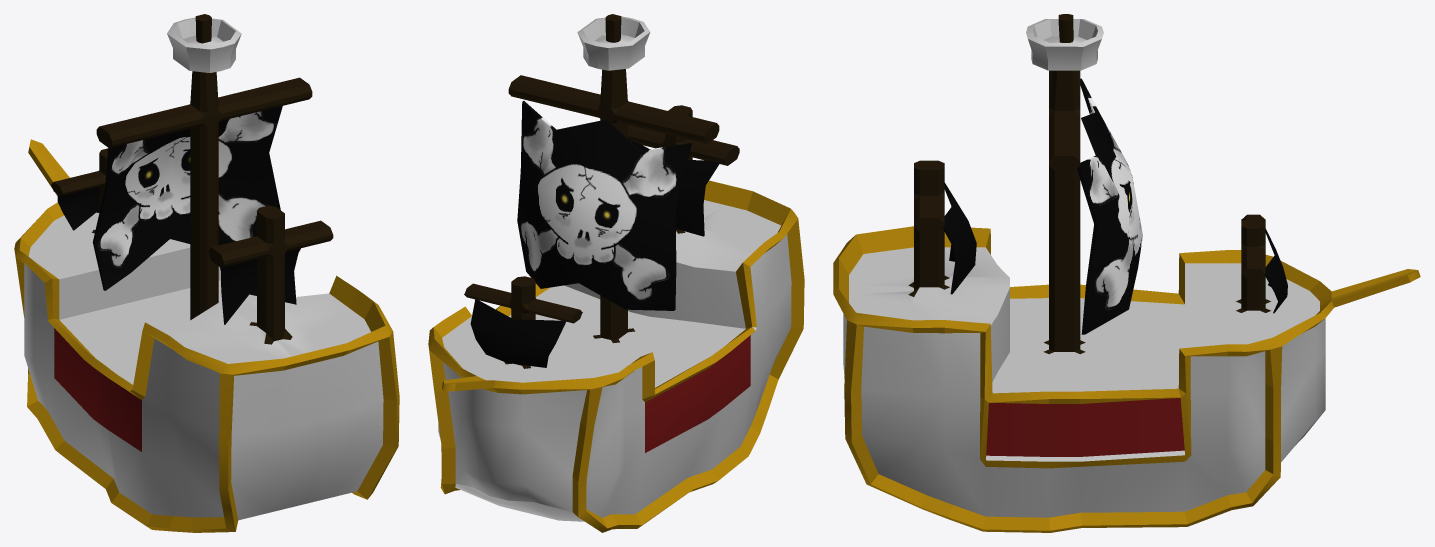
Rendered from ship.obj.
The picture shows the model from 3 angles, left to right: view 1: azimuth 30°, elevation 25°; view 2: azimuth 150°, elevation 25°; view 3: azimuth 270°, elevation 25°; orthographic projection. The views are drawn at different scales.
Visible parts, largest first — view 1: Ship, main_sail, back_sail, front_sail; view 2: Ship, main_sail, front_sail, back_sail; view 3: Ship, main_sail, back_sail, front_sail.
Part boxes in pixels (left/top/right/bottom): Ship: left=14, top=14, right=399, bottom=532; main_sail: left=92, top=106, right=282, bottom=290; back_sail: left=220, top=248, right=300, bottom=324; front_sail: left=57, top=186, right=99, bottom=230; Ship: left=428, top=14, right=804, bottom=532; main_sail: left=517, top=101, right=692, bottom=310; front_sail: left=470, top=299, right=566, bottom=367; back_sail: left=631, top=141, right=719, bottom=236; Ship: left=833, top=14, right=1420, bottom=532; main_sail: left=1077, top=78, right=1142, bottom=334; back_sail: left=943, top=182, right=976, bottom=294; front_sail: left=1265, top=229, right=1287, bottom=313.
Bounding box in the file's own units: 7.42 × 14.51 × 16.48.
